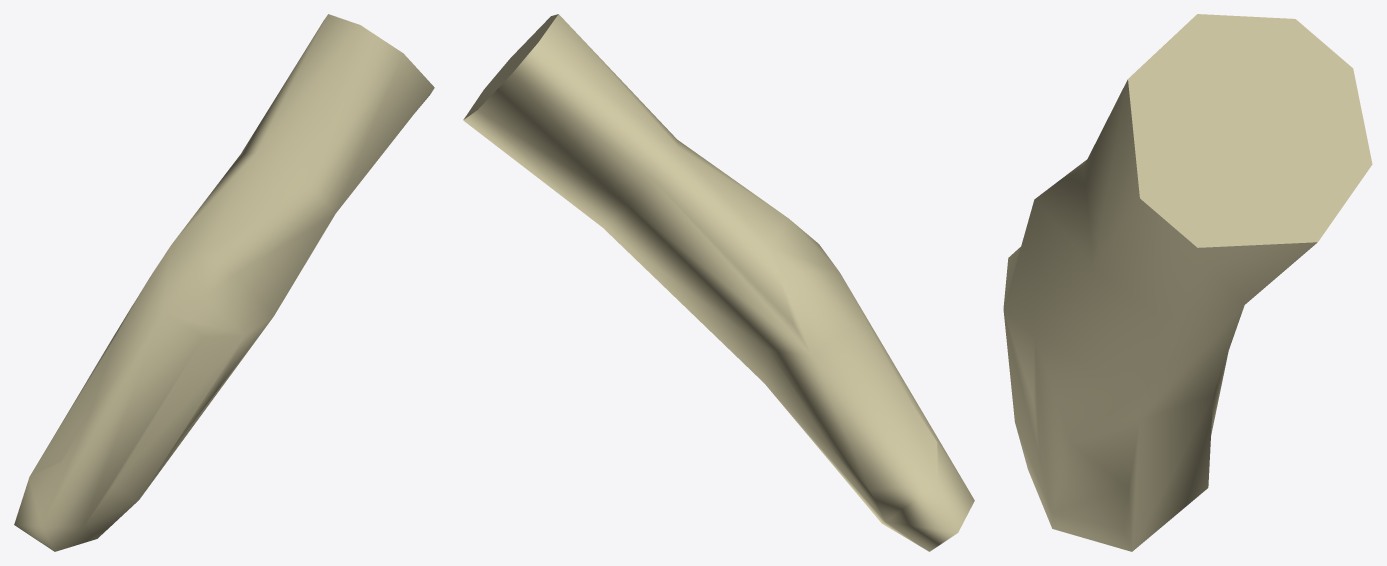
Rendered from Nao6_Left_Hand_Right_Finger.obj.
3 renders of one model, left to right at view 1: azimuth 30°, elevation 25°; view 2: azimuth 150°, elevation 25°; view 3: azimuth 270°, elevation 25°, orthographic. The views are drawn at different scales.
Parts seen in each view (by area): view 1: Nao6_Left_Hand_Right_Finger; view 2: Nao6_Left_Hand_Right_Finger; view 3: Nao6_Left_Hand_Right_Finger.
Part boxes in pixels (box(x1,y1,x2,y2)): Nao6_Left_Hand_Right_Finger: box(14, 14, 434, 551); Nao6_Left_Hand_Right_Finger: box(463, 14, 974, 551); Nao6_Left_Hand_Right_Finger: box(1003, 14, 1372, 551).
Size of the model in its own units: 0.2338 by 0.2216 by 0.0903.
